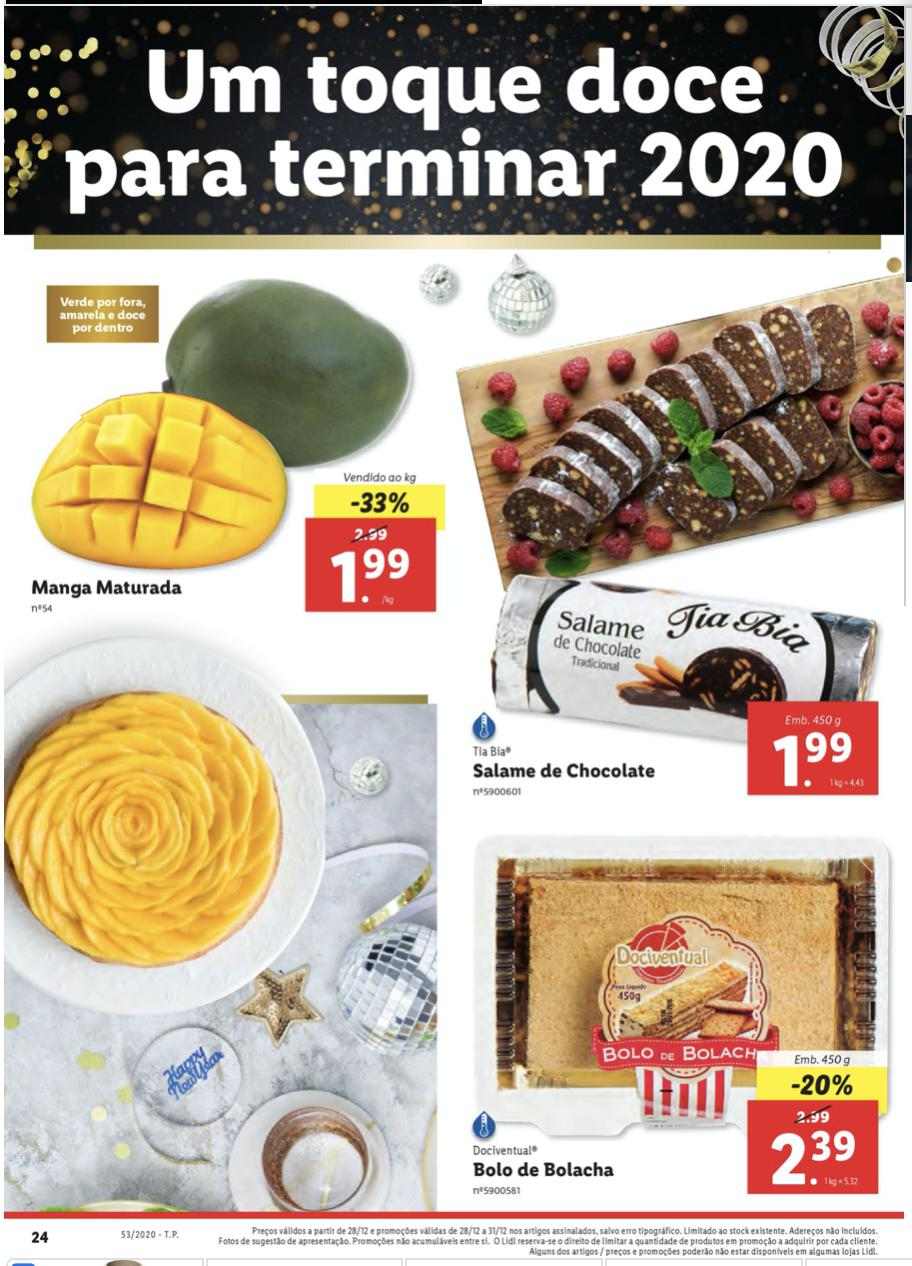name: (465, 757, 665, 788), (27, 573, 188, 604), (468, 1157, 621, 1187)
price: (766, 1127, 857, 1191), (776, 730, 865, 791), (326, 548, 413, 610)
product: (454, 290, 901, 818), (451, 829, 904, 1216), (21, 269, 454, 630)
promotion: (787, 1068, 857, 1101), (349, 490, 413, 516)
